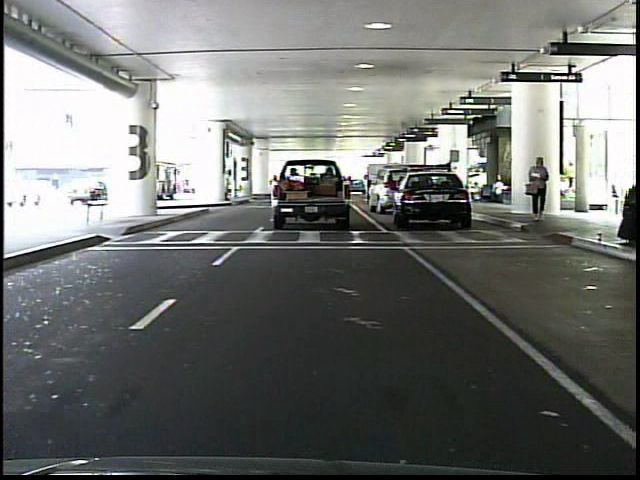person: (526, 149, 554, 227)
